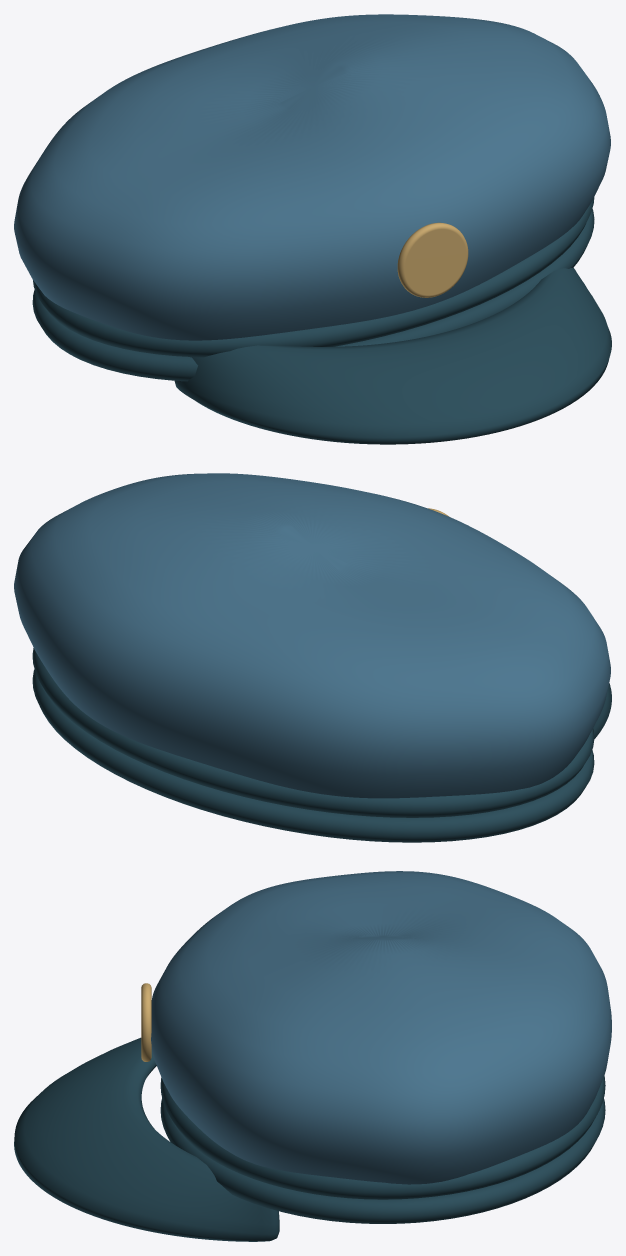
The model's file is bear_travel_cap.glb.
3 views of the same model, one above another, from view 1: azimuth 30°, elevation 25°; view 2: azimuth 150°, elevation 25°; view 3: azimuth 270°, elevation 25° (orthographic).
Visible parts, largest first — view 1: bear_travel_cap__WovenCloth_TravelBlue, bear_travel_cap__WovenCloth_CapBand, bear_travel_cap__SatinBrass_PawBrooch; view 2: bear_travel_cap__WovenCloth_TravelBlue, bear_travel_cap__WovenCloth_CapBand; view 3: bear_travel_cap__WovenCloth_TravelBlue, bear_travel_cap__WovenCloth_CapBand, bear_travel_cap__SatinBrass_PawBrooch.
Boxes of the visible parts, left/top/right/bottom form: bear_travel_cap__WovenCloth_TravelBlue: left=14, top=14, right=610, bottom=340; bear_travel_cap__WovenCloth_CapBand: left=32, top=197, right=611, bottom=444; bear_travel_cap__SatinBrass_PawBrooch: left=397, top=222, right=468, bottom=297; bear_travel_cap__WovenCloth_TravelBlue: left=14, top=473, right=610, bottom=798; bear_travel_cap__WovenCloth_CapBand: left=32, top=648, right=611, bottom=842; bear_travel_cap__WovenCloth_TravelBlue: left=151, top=871, right=611, bottom=1184; bear_travel_cap__WovenCloth_CapBand: left=14, top=1037, right=605, bottom=1241; bear_travel_cap__SatinBrass_PawBrooch: left=141, top=983, right=151, bottom=1061.
Size of the model in its own units: 0.8598 by 0.3426 by 0.8187.
